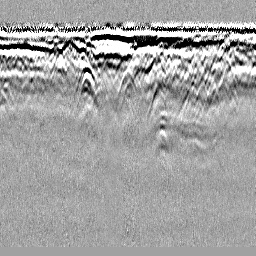cavity: (116, 67, 137, 98)
